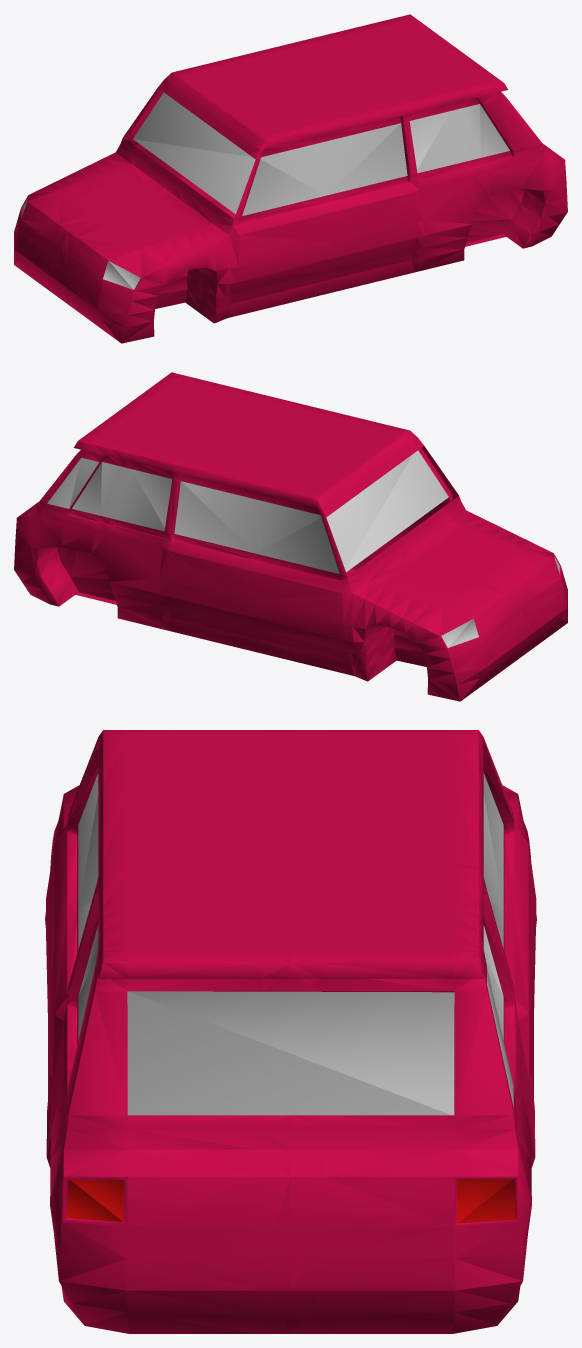
Rendered from voiture3.obj.
The picture shows the model from 3 angles, top to bottom: view 1: azimuth 30°, elevation 25°; view 2: azimuth 150°, elevation 25°; view 3: azimuth 270°, elevation 25°; orthographic projection. The views are drawn at different scales.
Parts seen in each view (by area): view 1: Cube; view 2: Cube; view 3: Cube.
Part boxes in pixels (box(x1,y1,x2,y2)): Cube: box(14, 14, 567, 343); Cube: box(14, 372, 567, 701); Cube: box(45, 730, 536, 1333).
Bounding box in the file's own units: 11.58 × 3.83 × 5.32.
